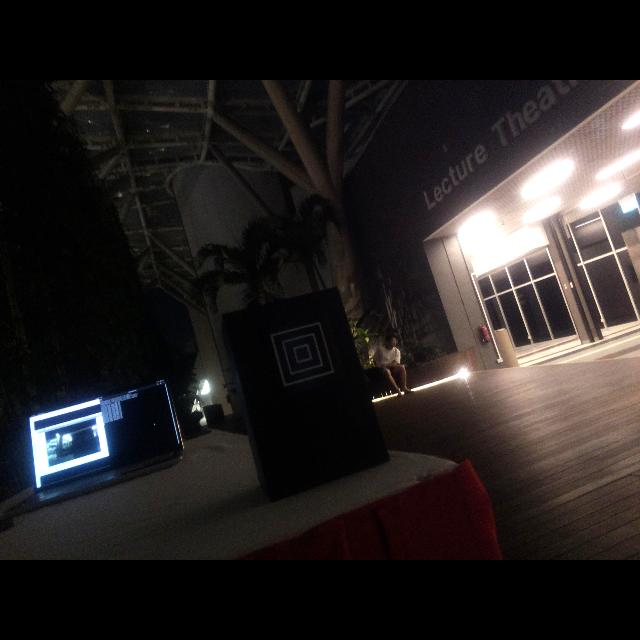BULLSEYE: (270, 322, 335, 387)
